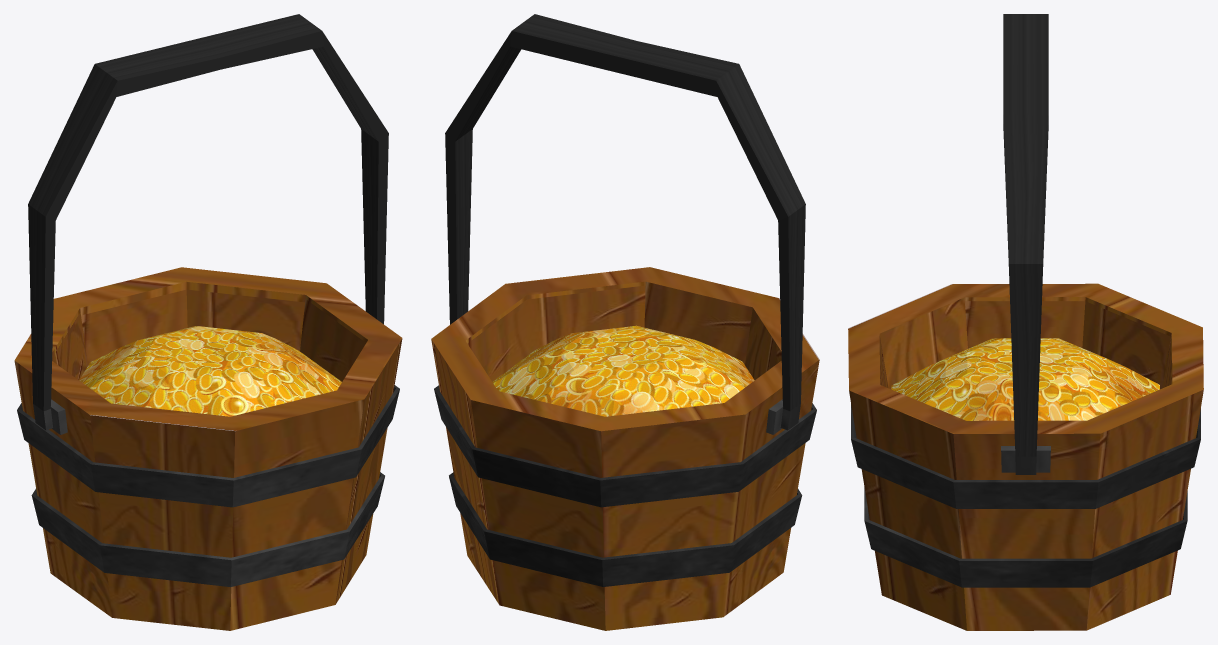
File: Mine_Bucket_Gold.fbx
3 renders of one model, left to right at view 1: azimuth 30°, elevation 25°; view 2: azimuth 150°, elevation 25°; view 3: azimuth 270°, elevation 25°, orthographic.
Parts seen in each view (by area): view 1: Bucke_Gold; view 2: Bucke_Gold; view 3: Bucke_Gold.
Part boxes in pixels (bbox=[...]): Bucke_Gold: bbox=[14, 14, 402, 630]; Bucke_Gold: bbox=[431, 14, 819, 630]; Bucke_Gold: bbox=[848, 14, 1203, 630].
Bounding box in the file's own units: 56.18 × 80.84 × 51.42.
